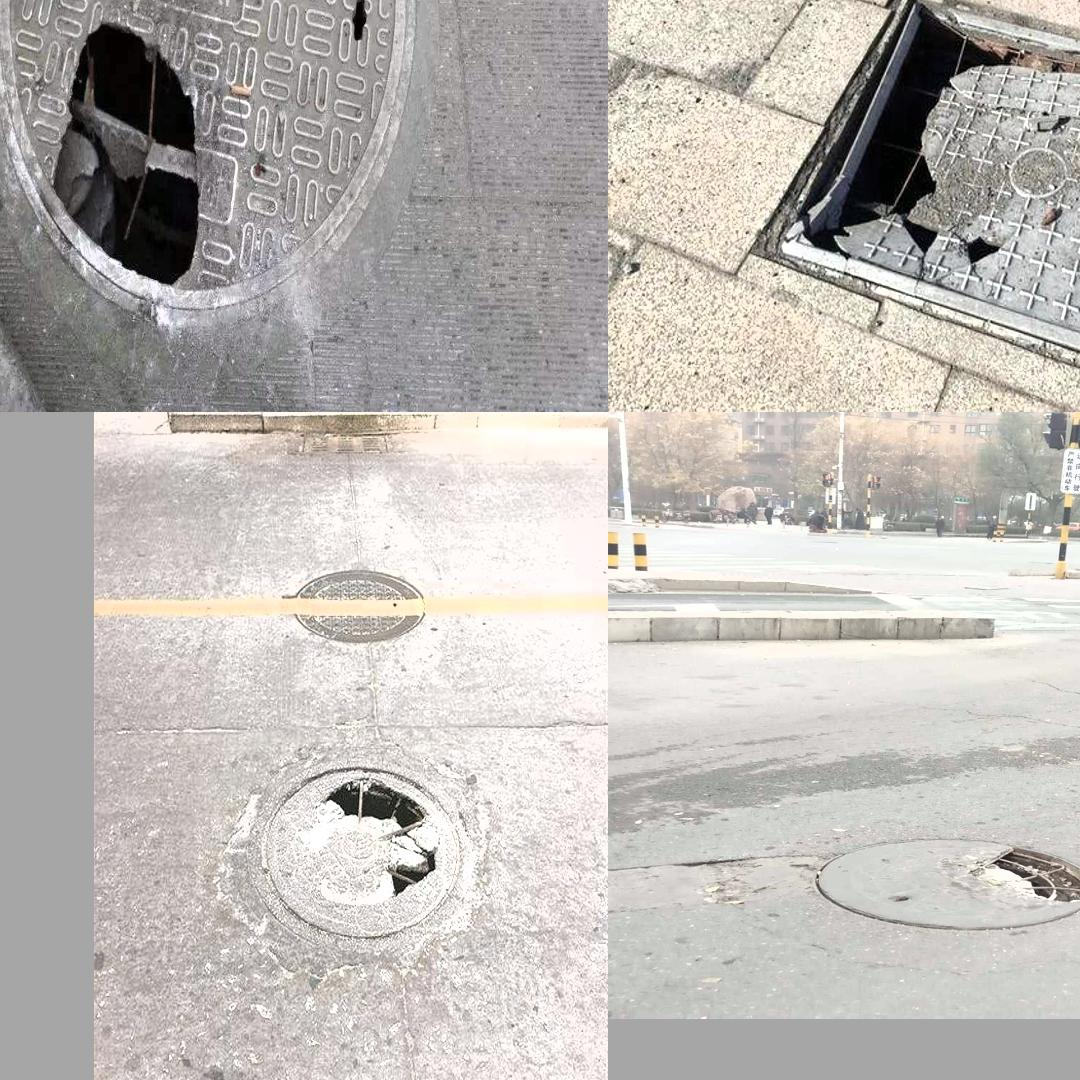broke: (749, 0, 1080, 410), (0, 0, 417, 307), (187, 728, 503, 999), (816, 838, 1080, 929)
